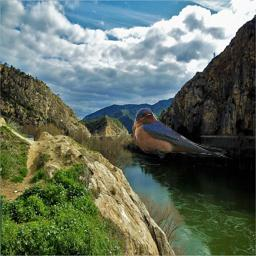Swallow: (132, 108, 232, 159)
